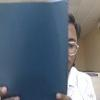notebook: (0, 0, 69, 99)
